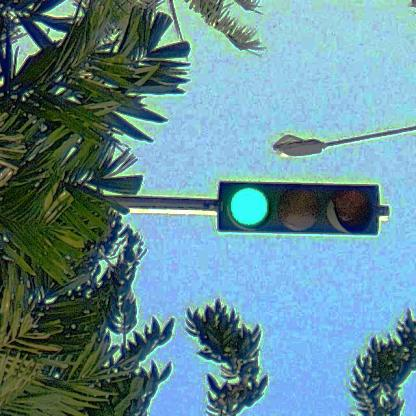Traffic Light -Green-: (220, 181, 380, 234)
